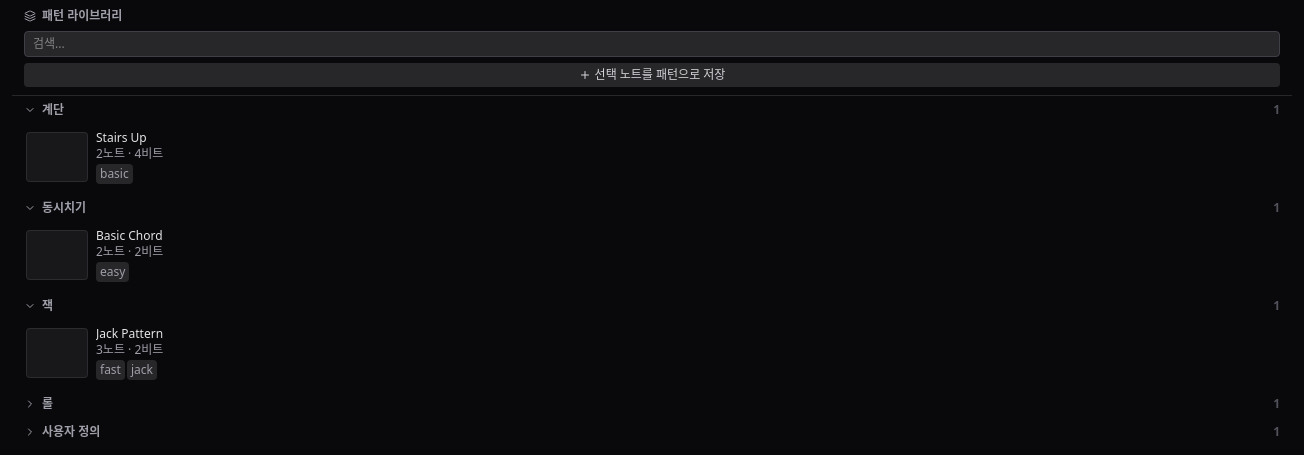
Scenario: PatternLibraryPanel › collapses an expanded category when clicked
Expected: the text "Stairs Up" is shown, [96,129,147,146]
Click the button "계단 1": (30, 110) [12,96,1292,124]
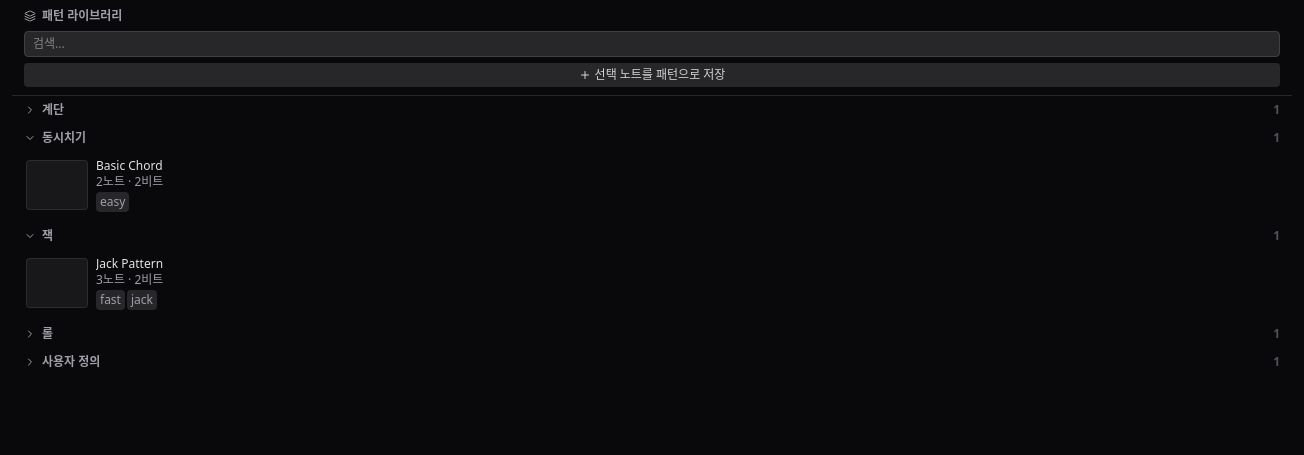
Expected: the text "Stairs Up" is gone
